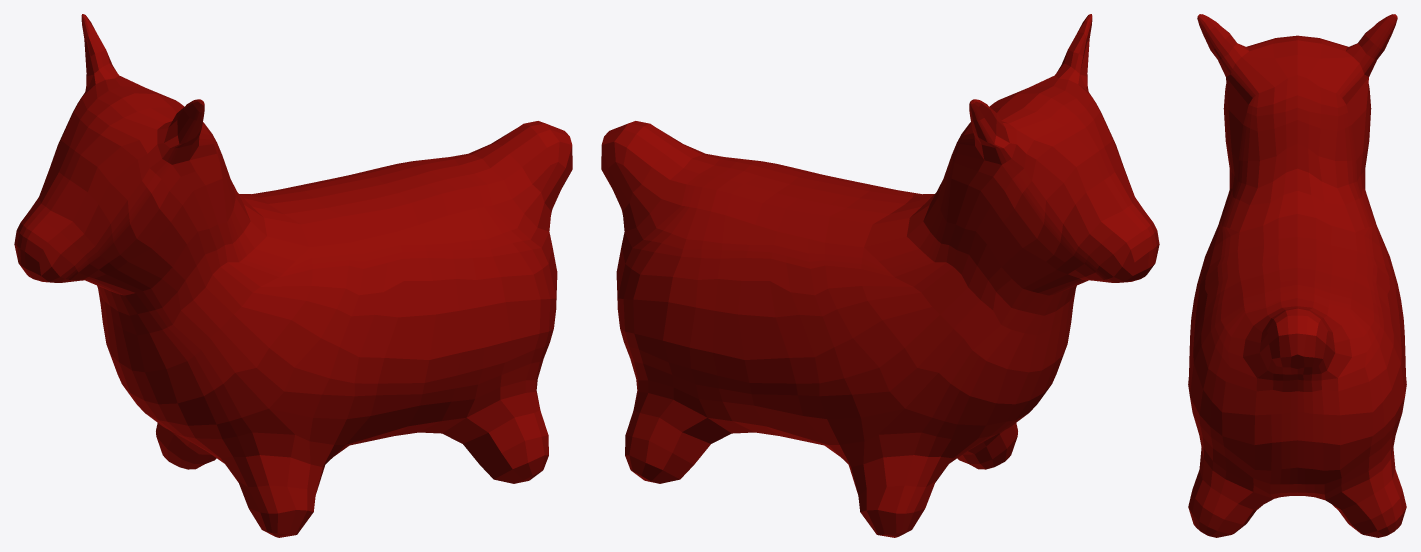
File: CABALLO.fbx
The picture shows the model from 3 angles, left to right: view 1: azimuth 30°, elevation 25°; view 2: azimuth 150°, elevation 25°; view 3: azimuth 270°, elevation 25°; orthographic projection. The views are drawn at different scales.
Parts seen in each view (by area): view 1: Plane.001; view 2: Plane.001; view 3: Plane.001.
Part boxes in pixels (x1,y1,x2,y2): Plane.001: (14, 14, 572, 537); Plane.001: (601, 14, 1159, 537); Plane.001: (1188, 14, 1406, 537).
Size of the model in its own units: 1.29 by 1.05 by 0.5345.
